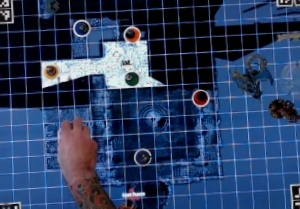blue: (69, 17, 89, 37)
green: (120, 67, 143, 86)
orange: (122, 24, 143, 43)
red: (190, 86, 211, 109)
violet: (131, 145, 152, 167)
yellow: (39, 59, 58, 80)
